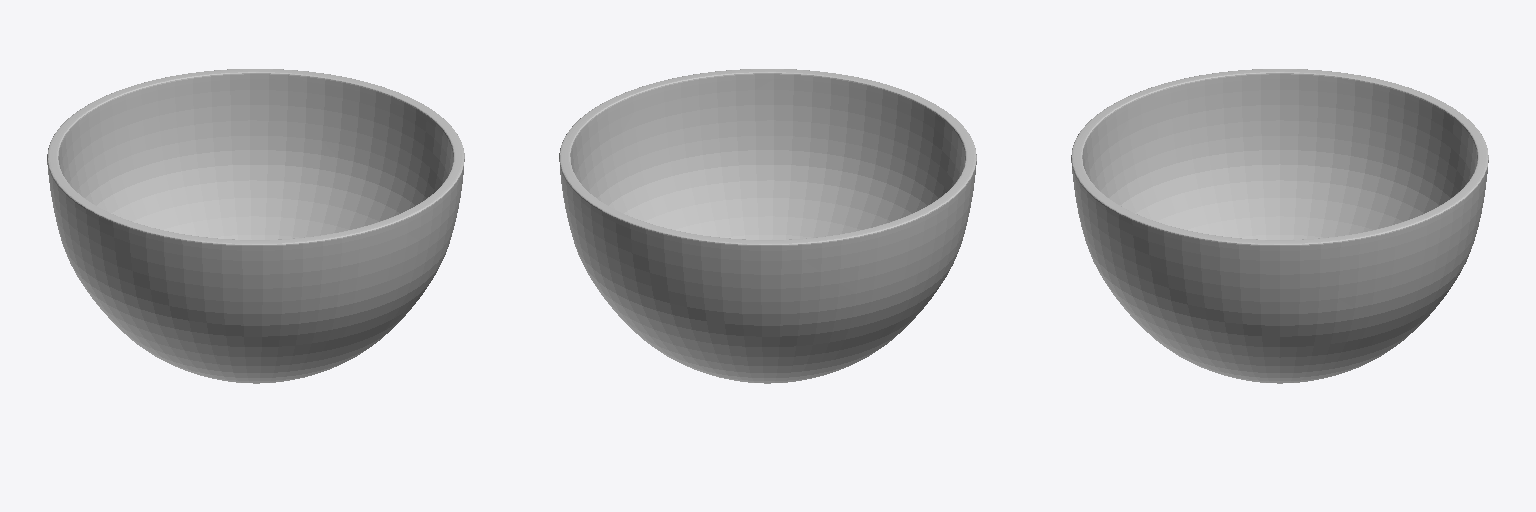
File: bowl.obj
3 renders of one model, left to right at view 1: azimuth 30°, elevation 25°; view 2: azimuth 150°, elevation 25°; view 3: azimuth 270°, elevation 25°, orthographic.
Visible parts, largest first — view 1: glass_mixing_bowl; view 2: glass_mixing_bowl; view 3: glass_mixing_bowl.
Boxes of the visible parts, x1=… form: glass_mixing_bowl: x1=47, y1=69, x2=464, y2=383; glass_mixing_bowl: x1=559, y1=69, x2=976, y2=383; glass_mixing_bowl: x1=1071, y1=69, x2=1488, y2=383.
Size of the model in its own units: 0.1873 by 0.0988 by 0.1873.